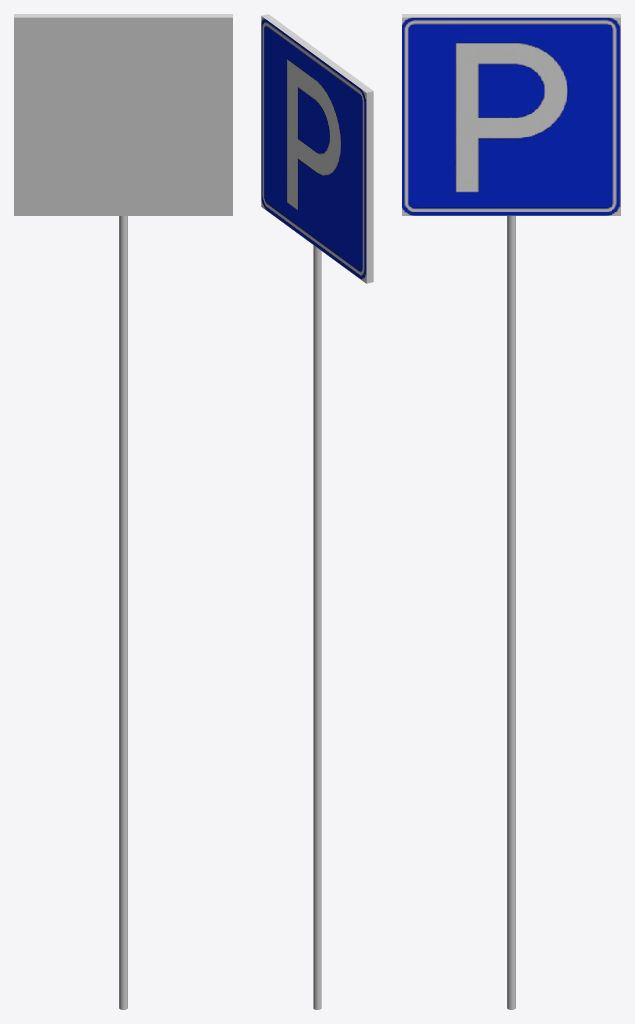
Rendered from parkyeri.dae.
3 renders of one model, left to right at view 1: azimuth 90°, elevation 25°; view 2: azimuth 210°, elevation 25°; view 3: azimuth 270°, elevation 25°, orthographic. The views are drawn at different scales.
Visible parts, largest first — view 1: Cube, Cylinder; view 2: Cube, Cylinder; view 3: Cube, Cylinder.
Boxes of the visible parts, x1,y1,x2,y2 form: Cube: [14, 14, 232, 215]; Cylinder: [119, 216, 127, 1009]; Cube: [261, 14, 373, 283]; Cylinder: [313, 245, 321, 1009]; Cube: [402, 14, 620, 215]; Cylinder: [507, 216, 515, 1009].
Bounding box in the file's own units: 0.02 × 0.5 × 2.5.
1 material, 1 textured.
